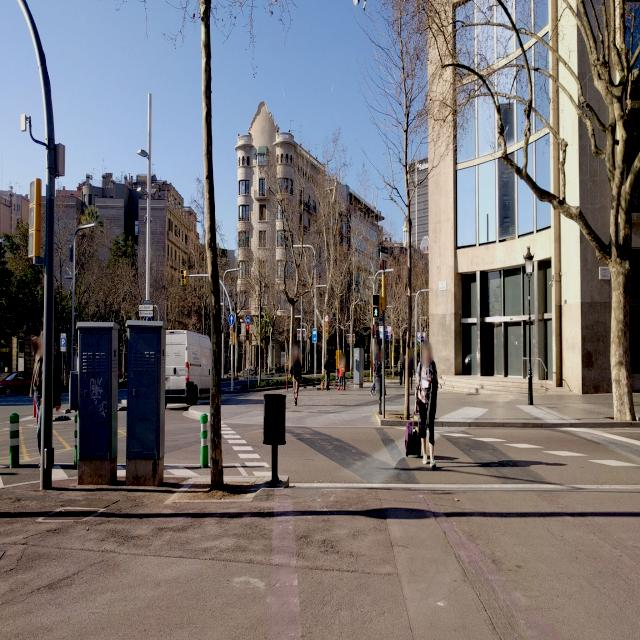car: (164, 328, 218, 406), (0, 369, 34, 395)
